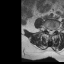CCS_normal: (50, 27, 51, 36)
LFS_normal: (53, 26, 55, 33)
LLS_normal: (51, 27, 53, 35)
RFS_normal: (46, 25, 48, 32)
RLS_normal: (48, 27, 50, 35)
